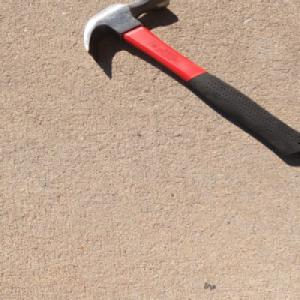Hammer: (78, 0, 300, 159)
